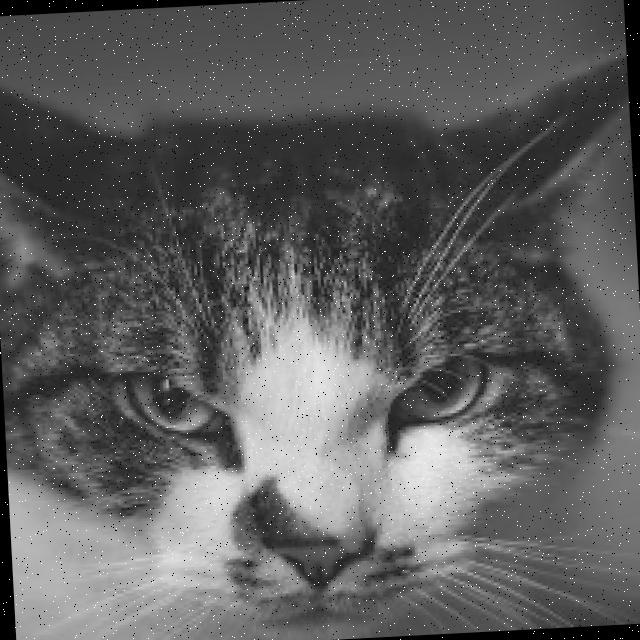Angry: (63, 259, 564, 640)
